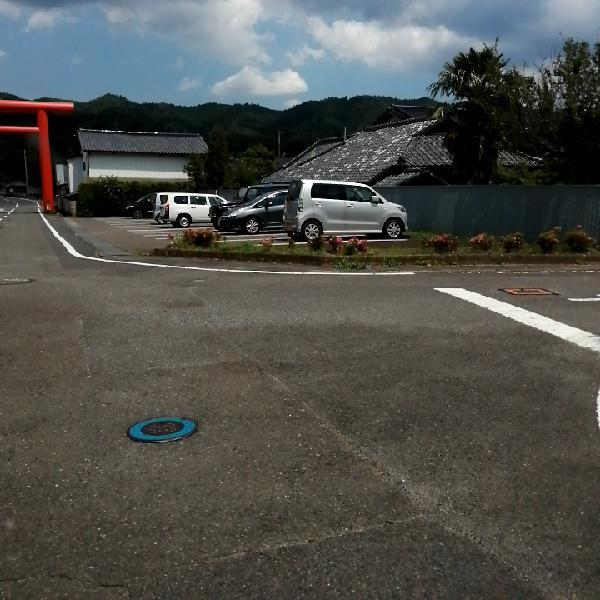D10: (7, 553, 131, 593)
D50: (122, 413, 199, 443), (503, 282, 554, 296)
